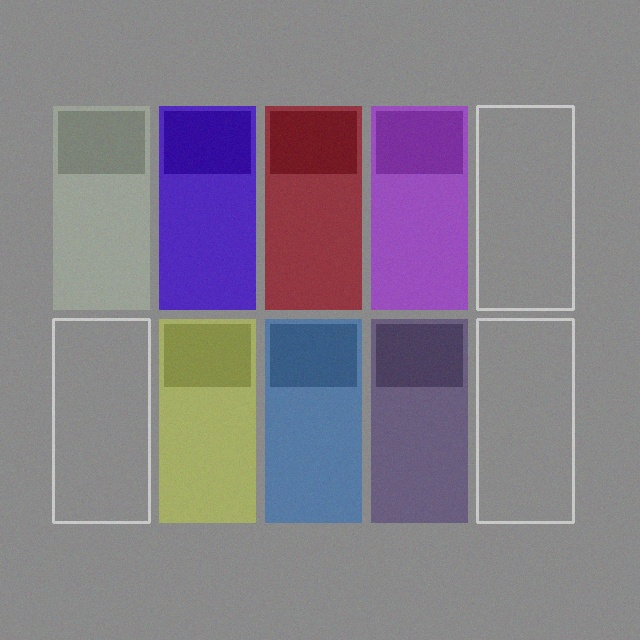space-empty: (477, 106, 573, 309), (53, 319, 149, 522), (477, 319, 573, 522)
space-occupied: (53, 106, 149, 309), (159, 106, 255, 309), (265, 106, 361, 309), (371, 106, 467, 309), (159, 319, 255, 522), (265, 319, 361, 522), (371, 319, 467, 522)
